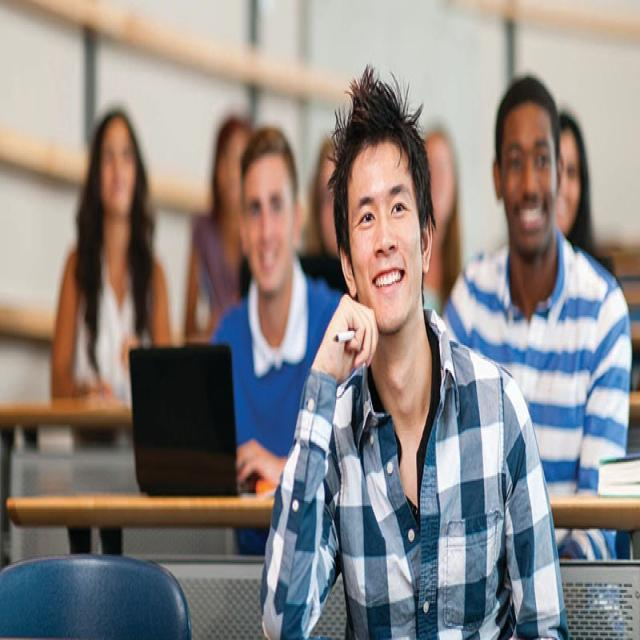Looking forward: (349, 143, 420, 334), (500, 100, 554, 256), (242, 153, 294, 294), (99, 116, 138, 222)
